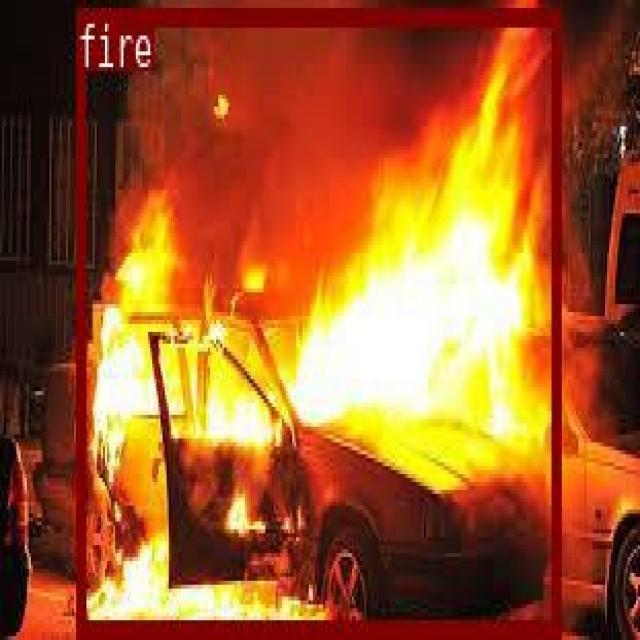fire: (75, 7, 558, 632)
